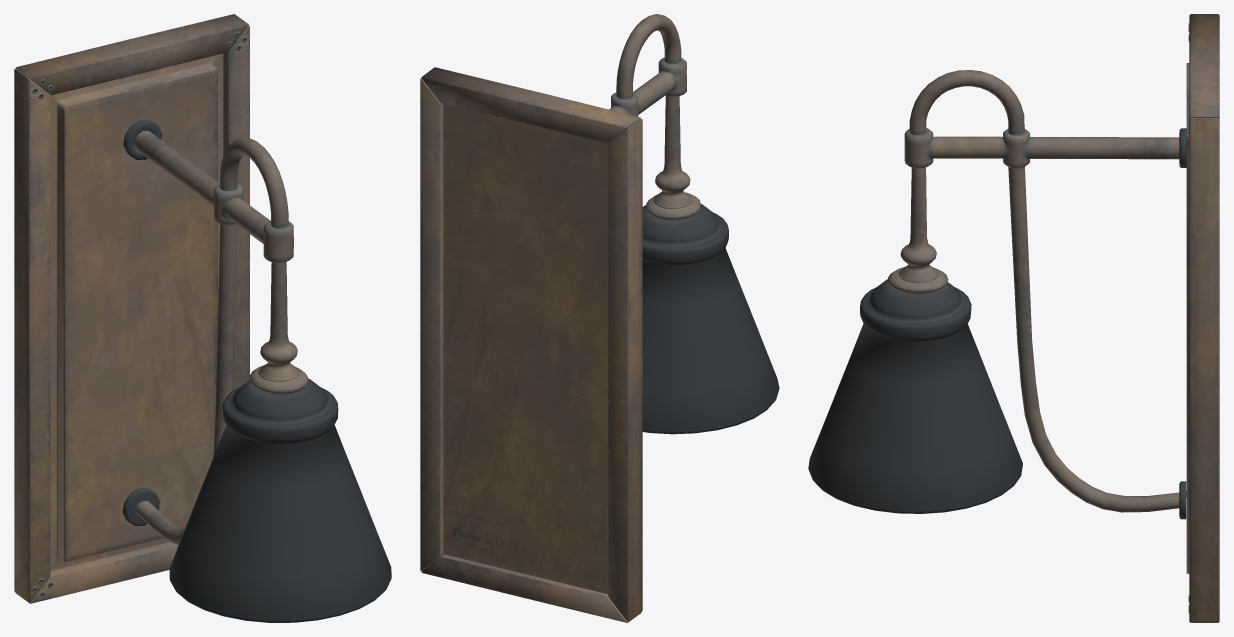
File: wall-lamp-transformed.glb
The picture shows the model from 3 angles, left to right: view 1: azimuth 30°, elevation 25°; view 2: azimuth 150°, elevation 25°; view 3: azimuth 270°, elevation 25°; orthographic projection. The views are drawn at different scales.
Visible parts, largest first — view 1: industrial_wall_sconce; view 2: industrial_wall_sconce; view 3: industrial_wall_sconce.
Boxes of the visible parts, box(x1,y1,x2,y2) form: industrial_wall_sconce: box(14, 14, 391, 622); industrial_wall_sconce: box(420, 14, 779, 622); industrial_wall_sconce: box(808, 14, 1219, 622).
Bounding box in the file's own units: 0.1503 × 0.3418 × 0.2516.
Materials: 2 (2 with a texture image).
